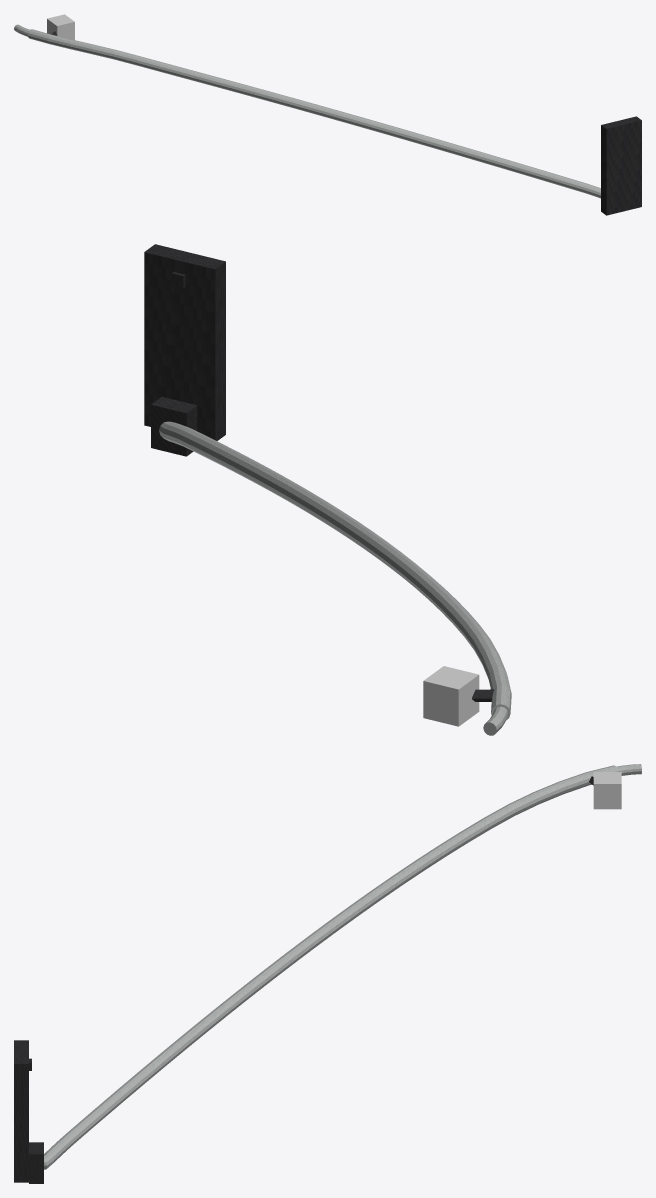
File: arm_5_left_right.obj
3 views of the same model, one above another, from view 1: azimuth 30°, elevation 25°; view 2: azimuth 150°, elevation 25°; view 3: azimuth 270°, elevation 25° (orthographic). The views are drawn at different scales.
Visible parts, largest first — view 1: pole_light_mount_5_left_right; view 2: pole_light_mount_5_left_right; view 3: pole_light_mount_5_left_right.
Boxes of the visible parts, left/top/right/bottom form: pole_light_mount_5_left_right: left=14, top=14, right=641, bottom=215; pole_light_mount_5_left_right: left=144, top=244, right=511, bottom=735; pole_light_mount_5_left_right: left=14, top=764, right=641, bottom=1183.
Size of the model in its own units: 4.22 by 1.24 by 4.19.
